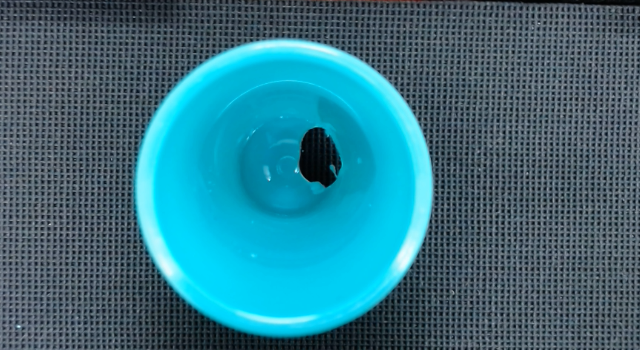hole: (300, 127, 342, 187)
